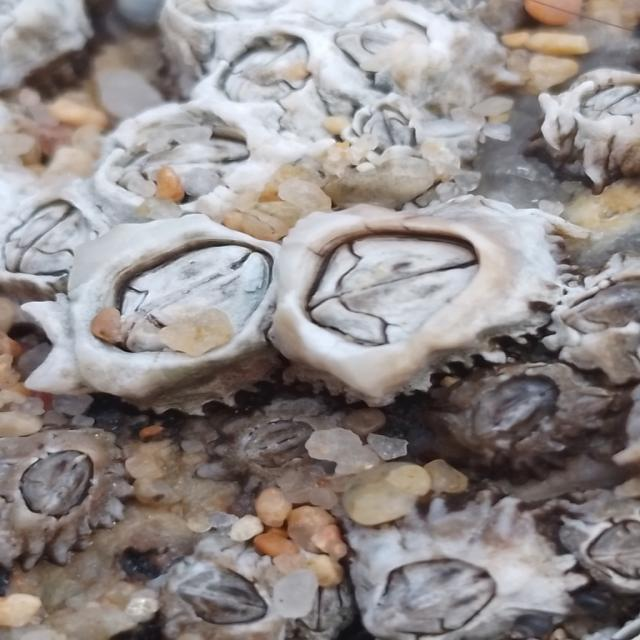barnacles: (280, 215, 556, 389), (64, 230, 286, 426), (347, 508, 568, 640), (88, 99, 298, 230), (149, 525, 317, 640), (0, 421, 135, 560), (186, 26, 352, 136), (445, 370, 599, 488), (335, 6, 487, 97), (322, 98, 467, 193), (537, 55, 640, 182), (0, 180, 102, 296), (565, 493, 640, 614)
